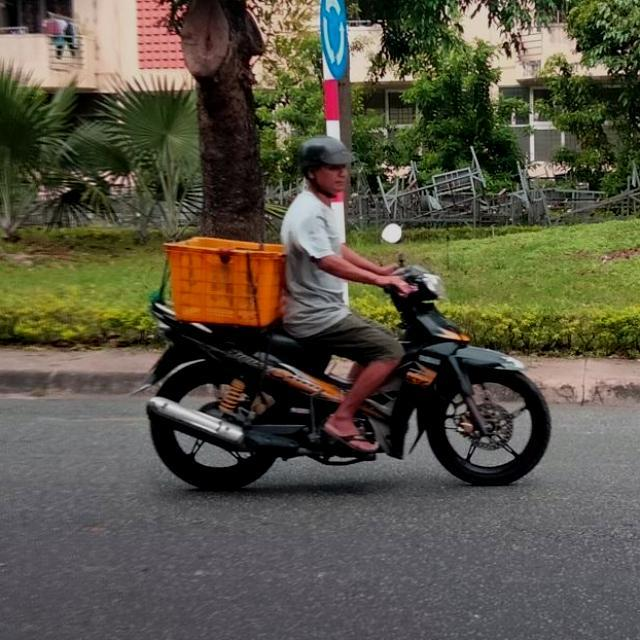Helmet: (296, 130, 356, 202)
